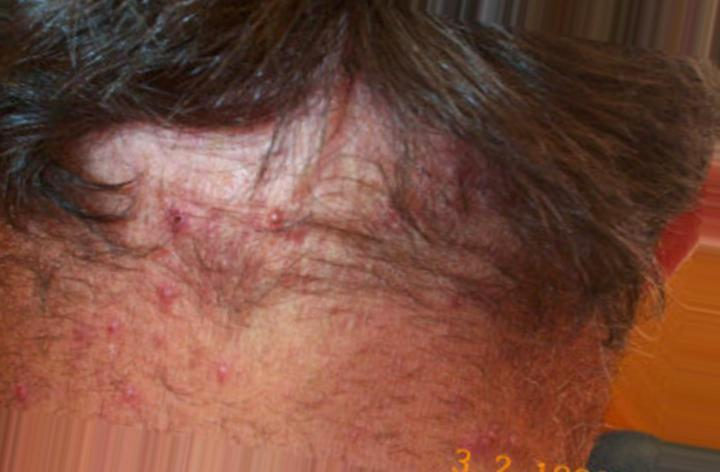Folliculitis: (97, 107, 492, 305)
